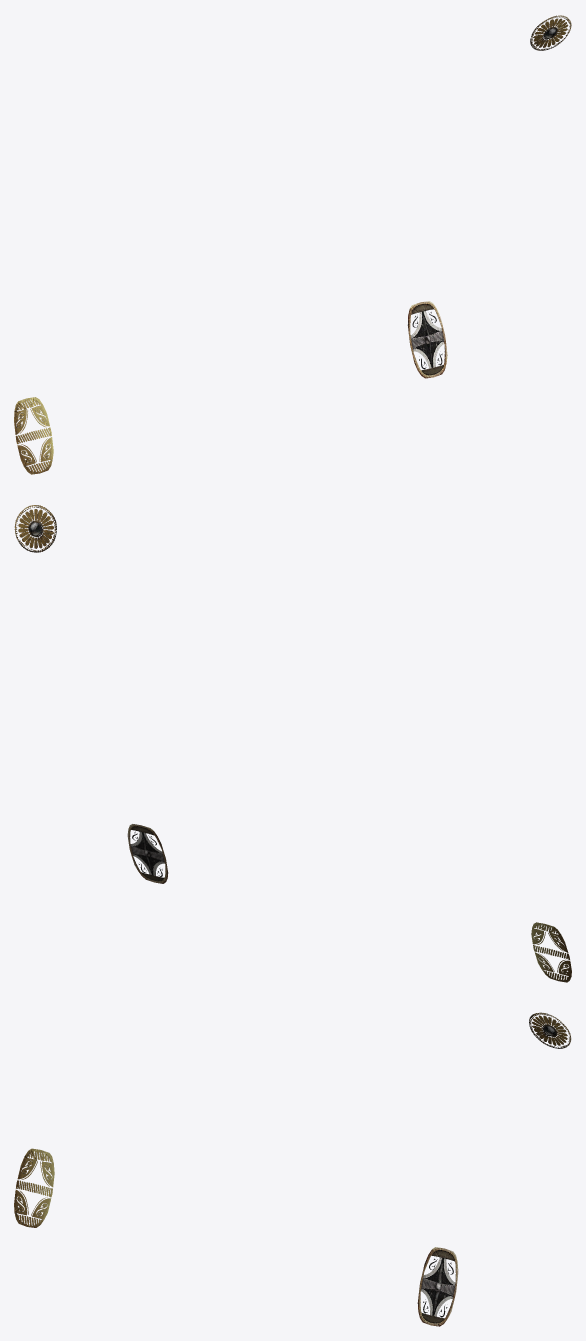
File: iber_wallgate_shields.dae
3 views of the same model, one above another, from view 1: azimuth 30°, elevation 25°; view 2: azimuth 150°, elevation 25°; view 3: azimuth 330°, elevation 25° (orthographic). The views are drawn at different scales.
Visible parts, largest first — view 1: Cylinder25; view 2: Cylinder25; view 3: Cylinder25.
Boxes of the visible parts, x1=… form: Cylinder25: x1=14, y1=15, x2=571, y2=474; Cylinder25: x1=14, y1=505, x2=571, y2=982; Cylinder25: x1=14, y1=1012, x2=571, y2=1326.
Size of the model in its own units: 22 by 1.24 by 12.91.
